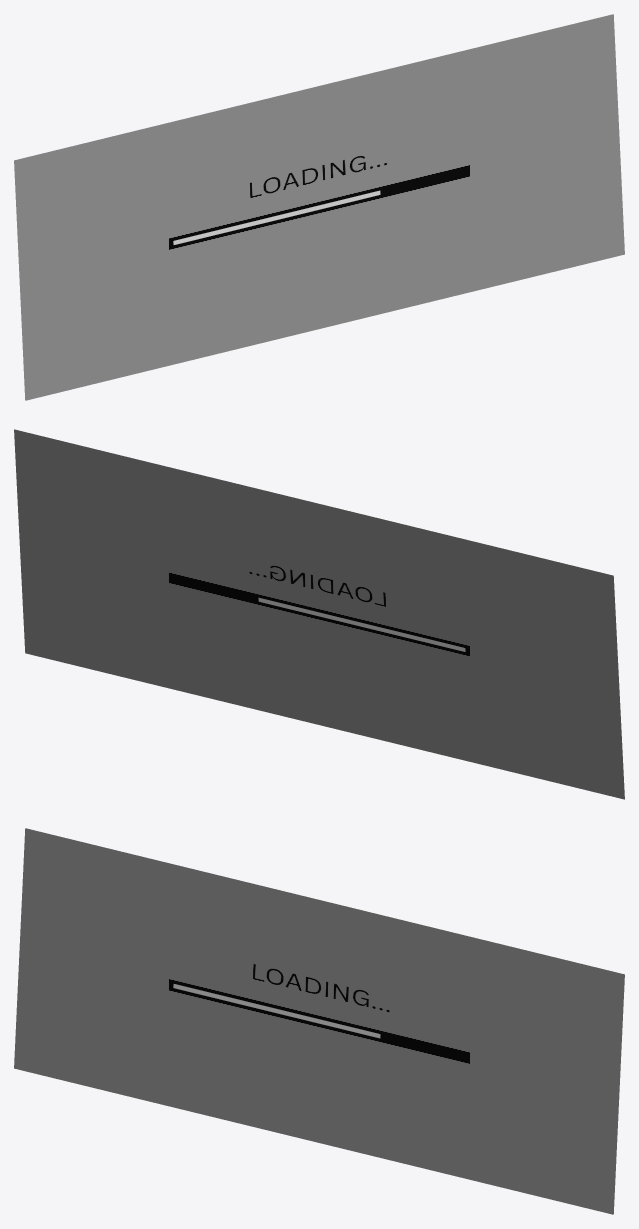
File: ScreenHMI_Loading.glb
3 views of the same model, one above another, from view 1: azimuth 30°, elevation 25°; view 2: azimuth 150°, elevation 25°; view 3: azimuth 330°, elevation 25° (orthographic).
Parts seen in each view (by area): view 1: ScreenHMI_Lpading; view 2: ScreenHMI_Lpading; view 3: ScreenHMI_Lpading.
Boxes of the visible parts, x1,y1,x2,y2 form: ScreenHMI_Lpading: (14,14,624,400); ScreenHMI_Lpading: (14,429,624,799); ScreenHMI_Lpading: (14,828,624,1214).
Size of the model in its own units: 0.266 by 0.0984 by 0.00861.
1 material, 1 textured.
